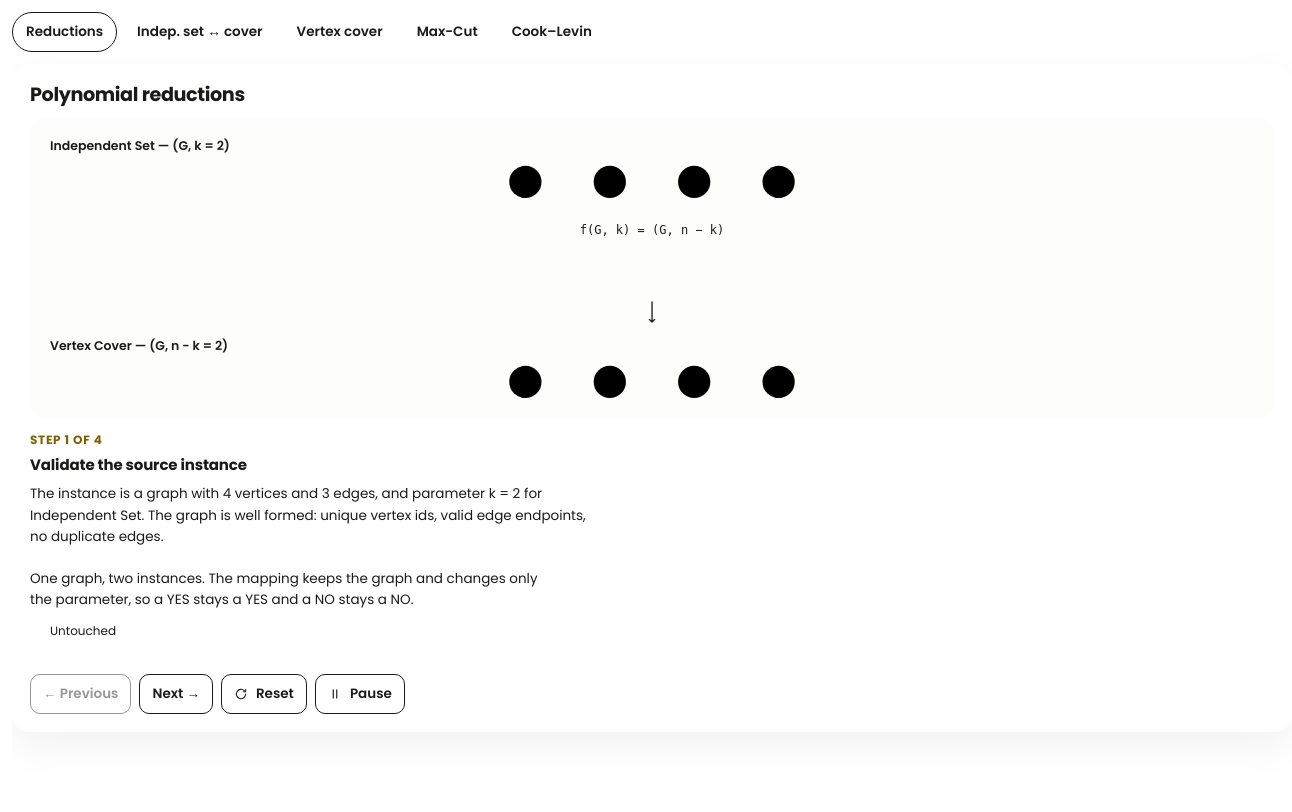
Scenario: AlgoScene › moves between steps with Next/Previous and returns with Reset
expect the button "← Previous" is disabled: met, box [30,674,132,714]
What coordinates should you click on to do the following:
click the button "Next →"
I would click on:
 (176, 694)
Its box is [140,674,213,714].
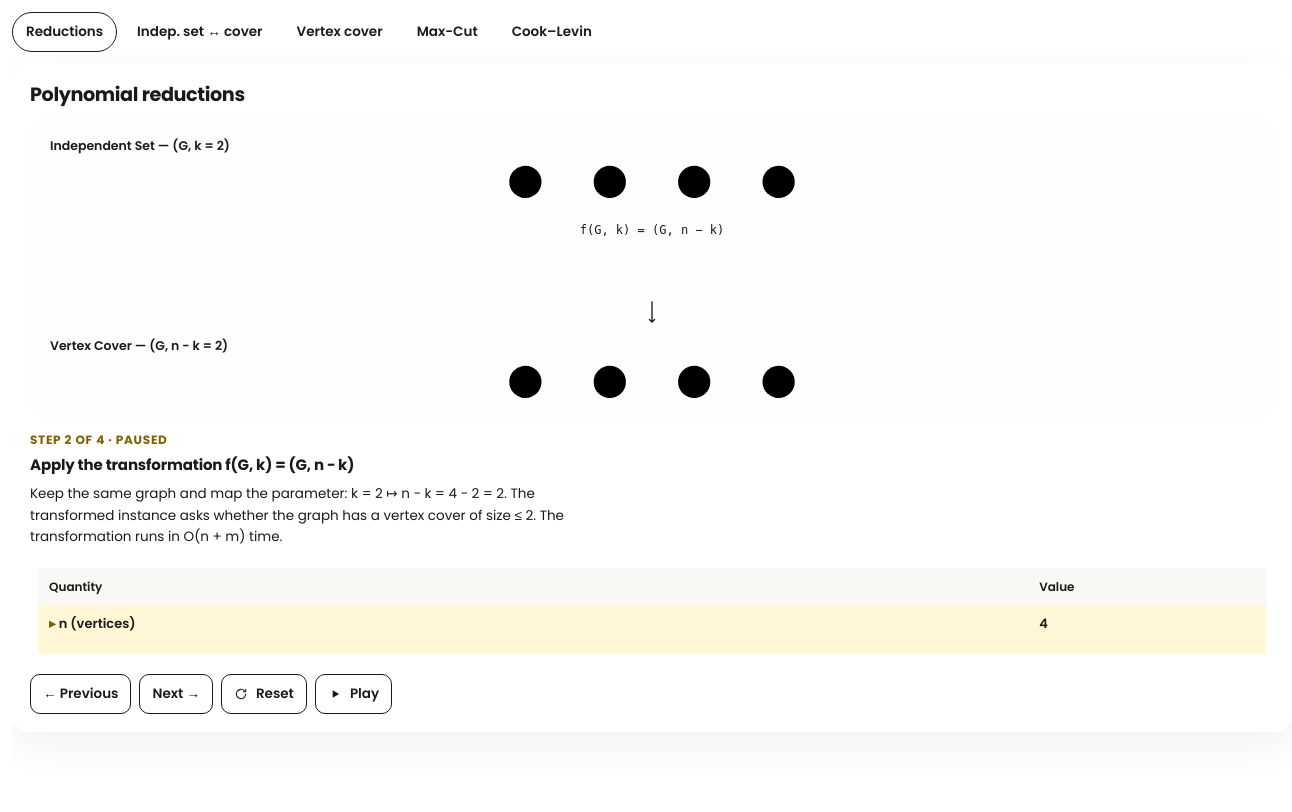
expect the text "Step 2 of 4 · paused" is shown: met, box [30,431,168,448]
expect the button "← Previous" is enabled: met, box [30,674,132,714]
What coordinates should you click on to do the following:
click the button "Next →"
I would click on:
 (176, 694)
Its box is [140,674,213,714].
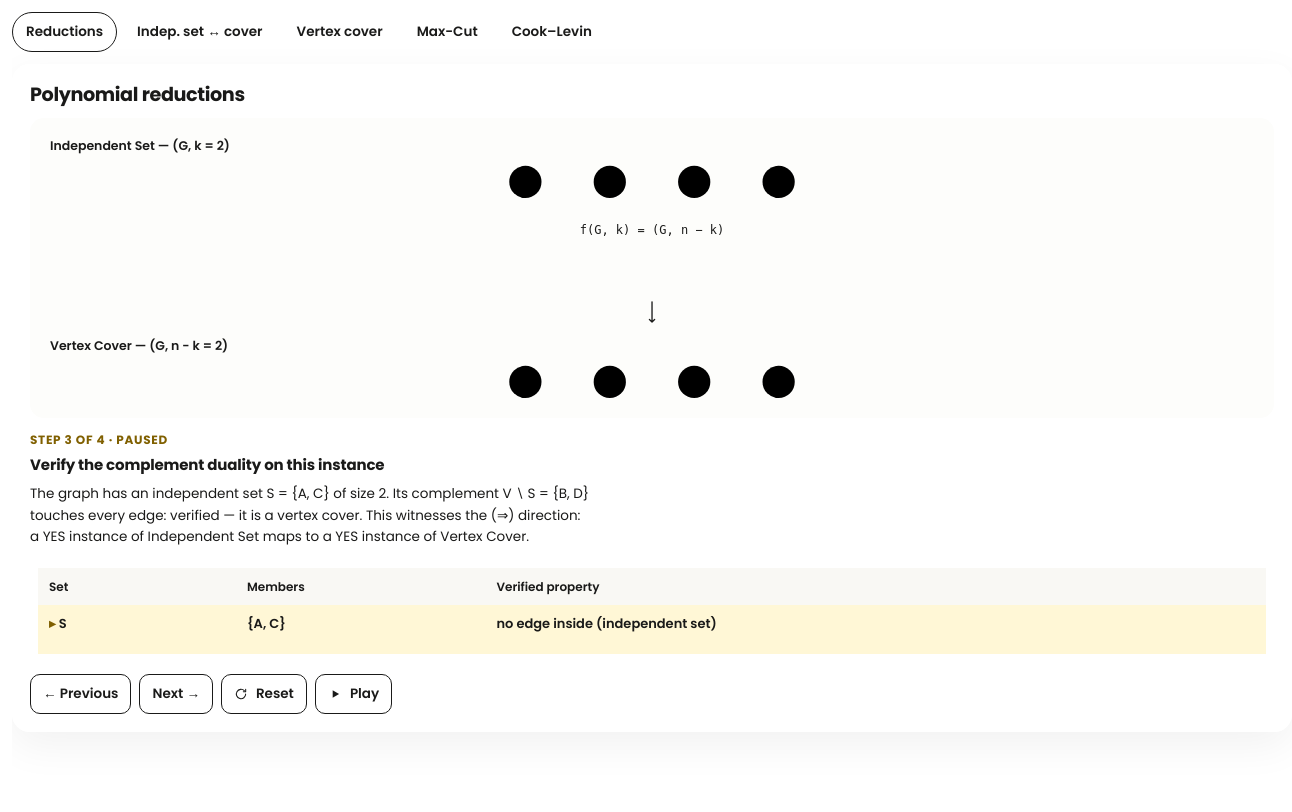
What coordinates should you click on to do the following:
click the button "Next →"
I would click on:
 (176, 694)
Its box is [140,674,213,714].
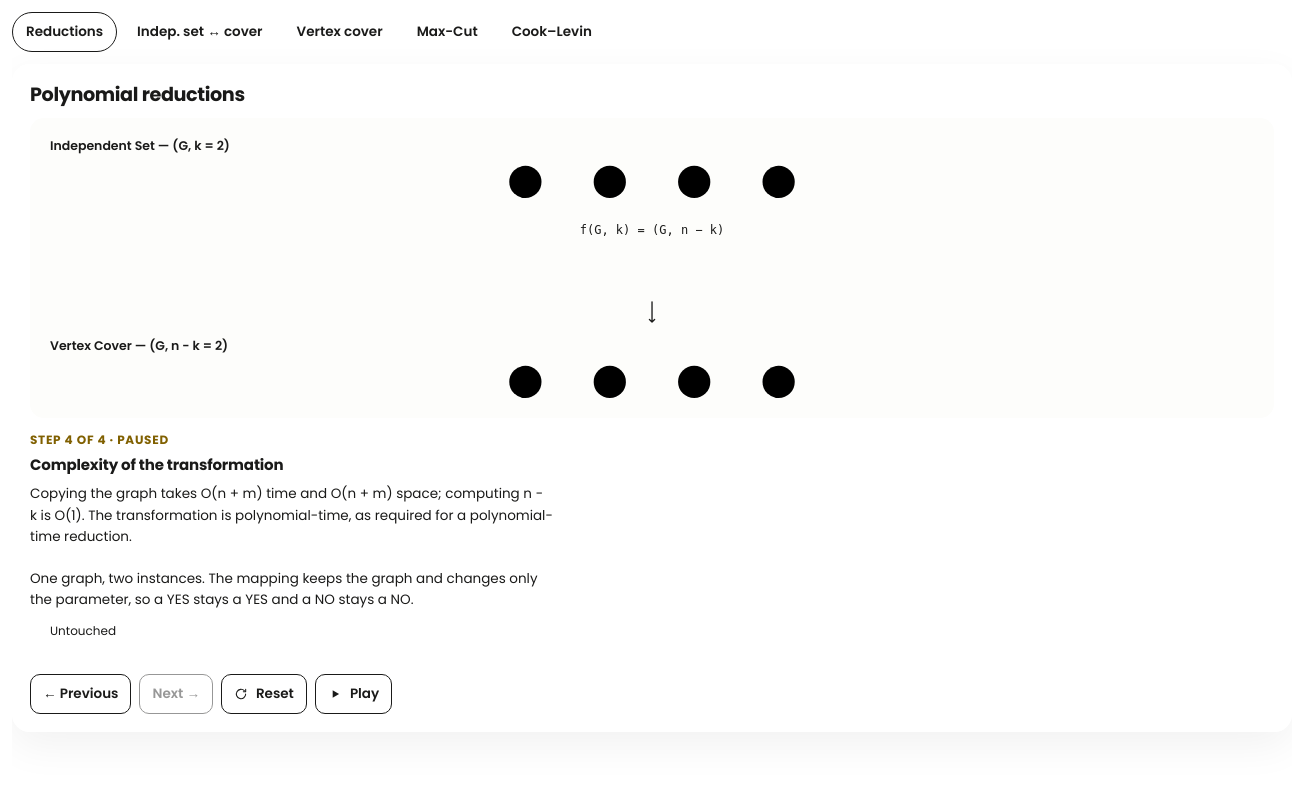
expect the text "Step 4 of 4 · paused" is shown: met, box [30,431,169,448]
expect the button "Next →" is disabled: met, box [140,674,213,714]
What coordinates should you click on to do the following:
click the button "Reset"
I would click on:
 (264, 694)
Its box is [221,674,307,714].
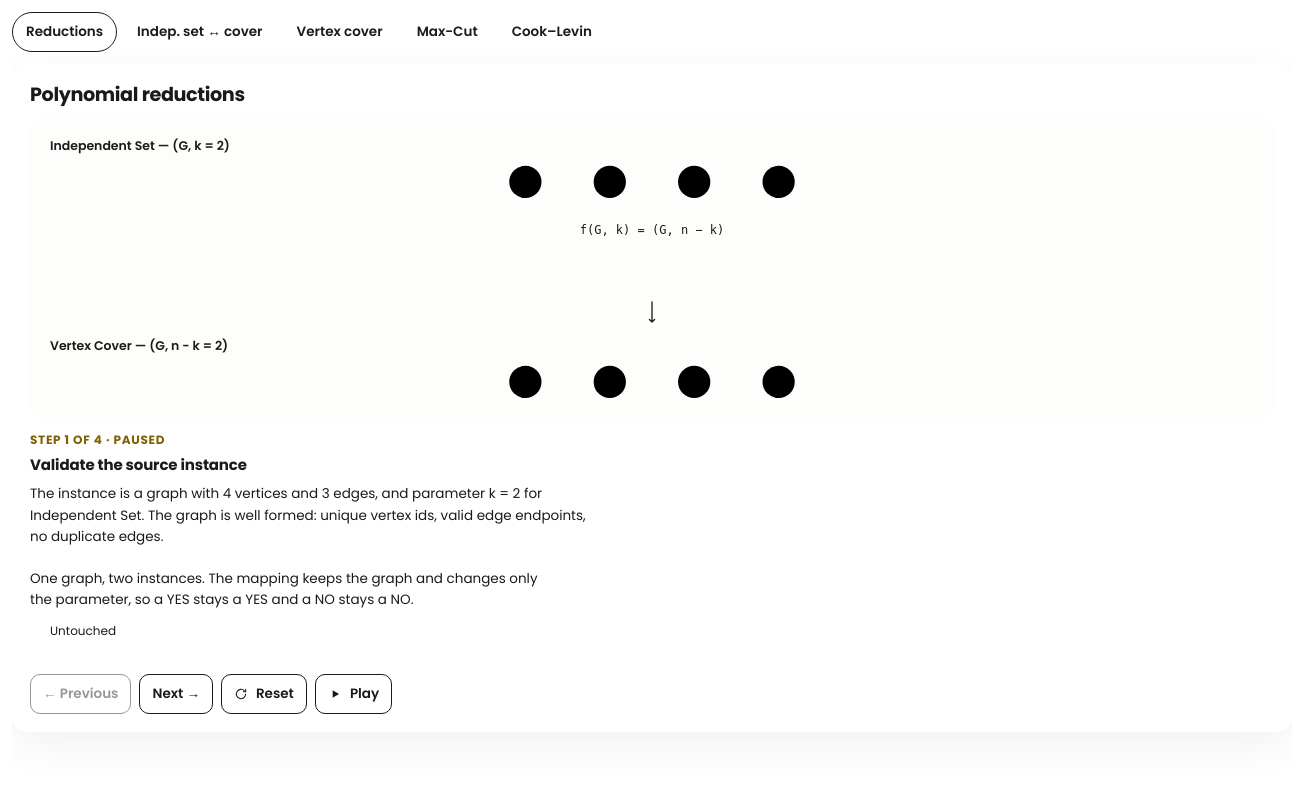
expect the text "Step 1 of 4 · paused" is shown: met, box [30,431,165,448]
